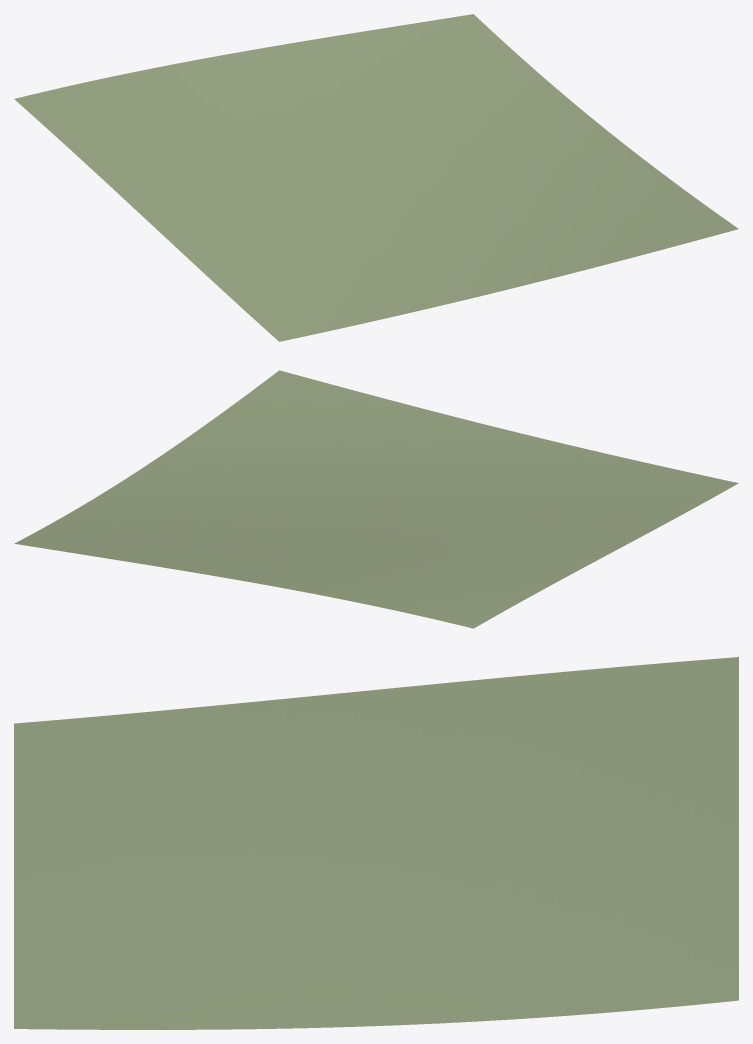
The model's file is alpine-13-15.glb.
3 renders of one model, top to bottom at view 1: azimuth 30°, elevation 25°; view 2: azimuth 150°, elevation 25°; view 3: azimuth 270°, elevation 25°, orthographic. The views are drawn at different scales.
Parts seen in each view (by area): view 1: alpine-13-15; view 2: alpine-13-15; view 3: alpine-13-15.
Part boxes in pixels (x1,y1,x2,y2): alpine-13-15: (14,14,738,341); alpine-13-15: (14,370,738,628); alpine-13-15: (14,657,738,1029).
Size of the model in its own units: 256 by 27.75 by 256.
